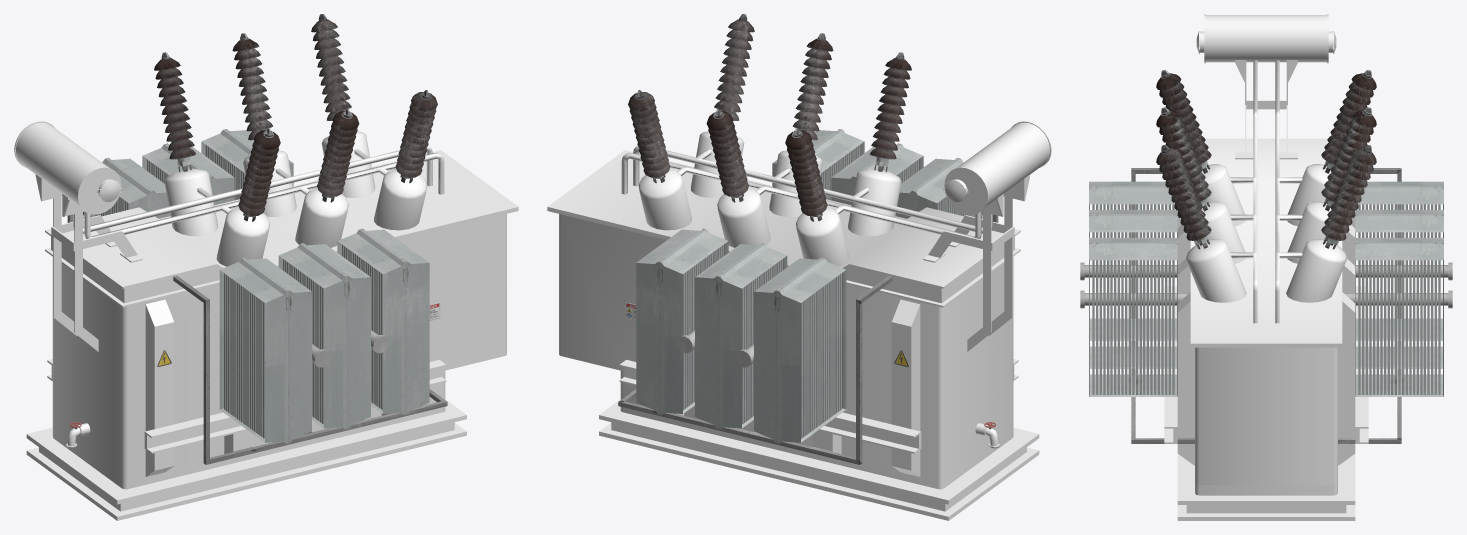
File: high-voltage-power-transformer.glb
The picture shows the model from 3 angles, left to right: view 1: azimuth 30°, elevation 25°; view 2: azimuth 150°, elevation 25°; view 3: azimuth 270°, elevation 25°; orthographic projection. The views are drawn at different scales.
Parts seen in each view (by area): view 1: transformer2_boxUV; view 2: transformer2_boxUV; view 3: transformer2_boxUV.
Boxes of the visible parts, x1,y1,x2,y2 form: transformer2_boxUV: [14, 14, 518, 520]; transformer2_boxUV: [547, 14, 1051, 520]; transformer2_boxUV: [1080, 14, 1452, 520].
Size of the model in its own units: 5.52 by 4.4 by 4.2.
Materials: 2 (1 with a texture image).
